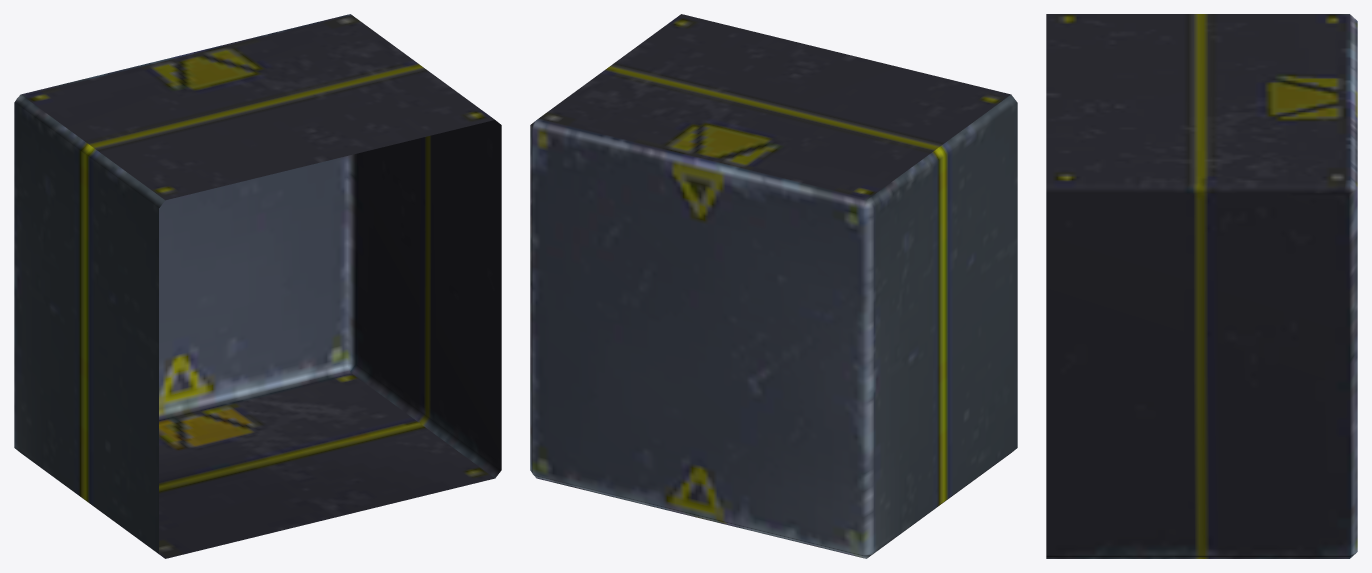
The picture shows the model from 3 angles, left to right: view 1: azimuth 30°, elevation 25°; view 2: azimuth 150°, elevation 25°; view 3: azimuth 270°, elevation 25°; orthographic projection. The views are drawn at different scales.
Visible parts, largest first — view 1: skin_crate_lm_n; view 2: skin_crate_lm_n; view 3: skin_crate_lm_n.
Part boxes in pixels (x1,y1,x2,y2): skin_crate_lm_n: [14, 14, 501, 558]; skin_crate_lm_n: [530, 14, 1017, 558]; skin_crate_lm_n: [1046, 14, 1357, 558].
Size of the model in its own units: 0.9 by 0.9 by 0.675.
1 material, 1 textured.
